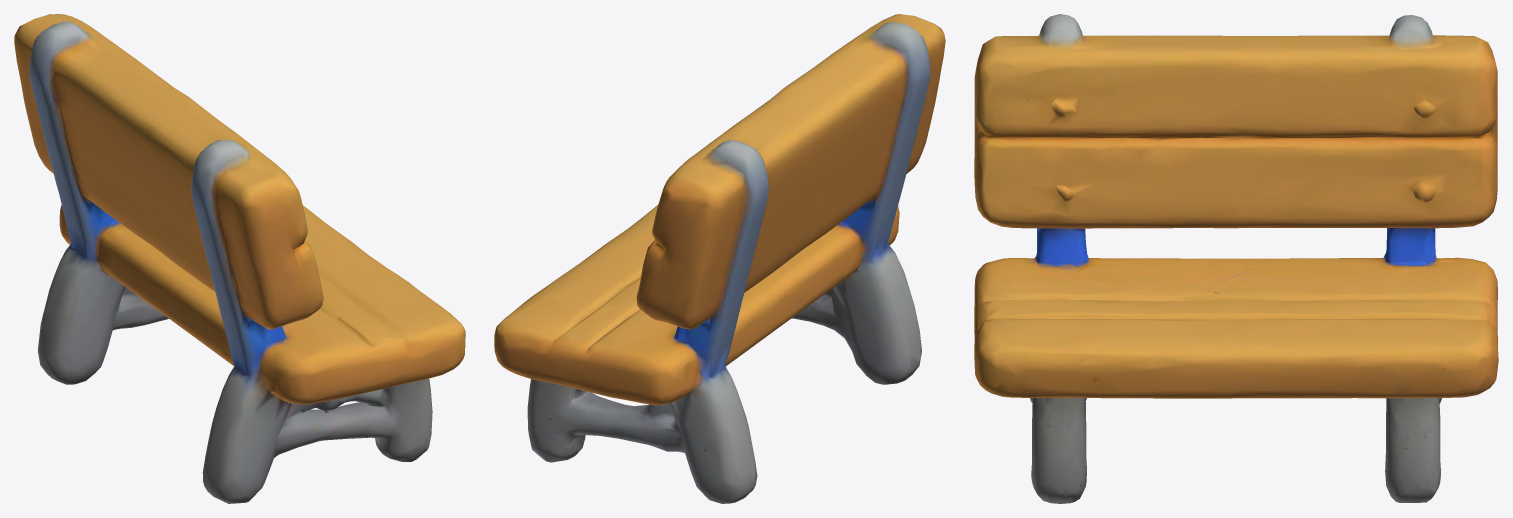
The model's file is park-bench.glb.
3 renders of one model, left to right at view 1: azimuth 30°, elevation 25°; view 2: azimuth 150°, elevation 25°; view 3: azimuth 270°, elevation 25°, orthographic. The views are drawn at different scales.
Parts seen in each view (by area): view 1: tripo_node_613701a6-0b4d-4319-9d5a-94631f17480b; view 2: tripo_node_613701a6-0b4d-4319-9d5a-94631f17480b; view 3: tripo_node_613701a6-0b4d-4319-9d5a-94631f17480b.
Part boxes in pixels (bbox=[...]): tripo_node_613701a6-0b4d-4319-9d5a-94631f17480b: bbox=[14, 14, 465, 503]; tripo_node_613701a6-0b4d-4319-9d5a-94631f17480b: bbox=[494, 14, 945, 503]; tripo_node_613701a6-0b4d-4319-9d5a-94631f17480b: bbox=[974, 14, 1498, 503].
Size of the model in its own units: 0.5781 by 0.8116 by 1.
1 material, 1 textured.
